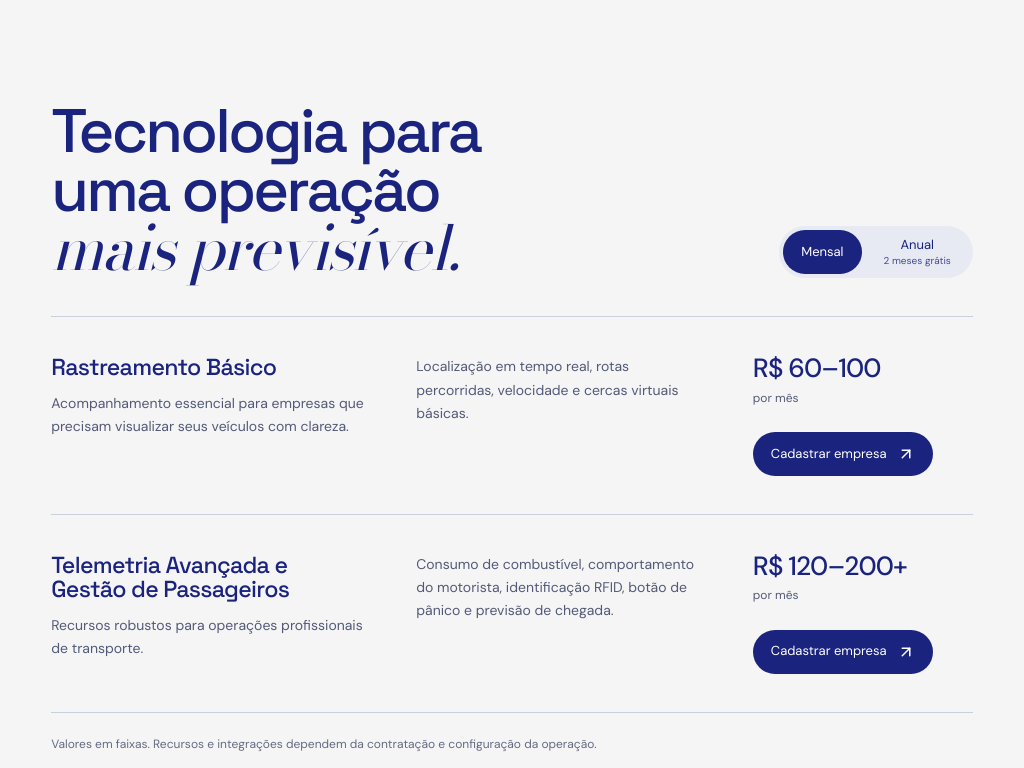
Test case: planos alternam de mensal para anual com dois meses grátis
Click the button "Anual 2 meses grátis" at (917, 252), box [866,230,969,274]
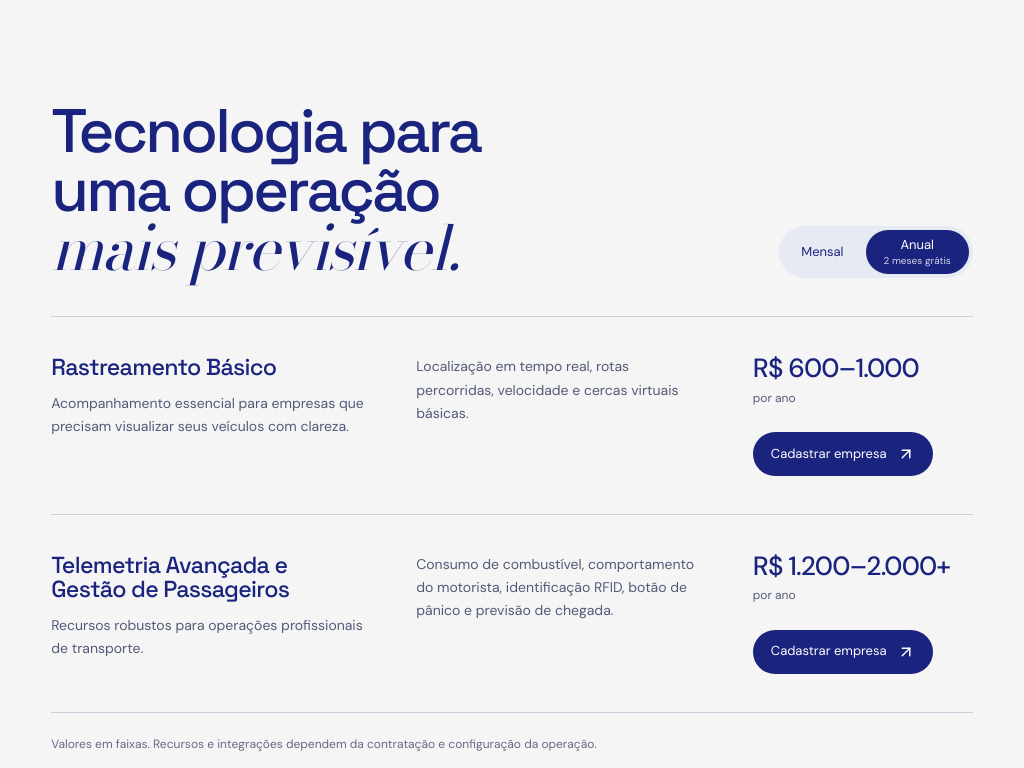
Expected: the text "2 meses grátis" is shown, [884,255,951,266]
Expected: the text "R$ 600–1.000" is shown, [753,356,919,382]
Expected: the text "R$ 1.200–2.000+" is shown, [753,553,950,580]
